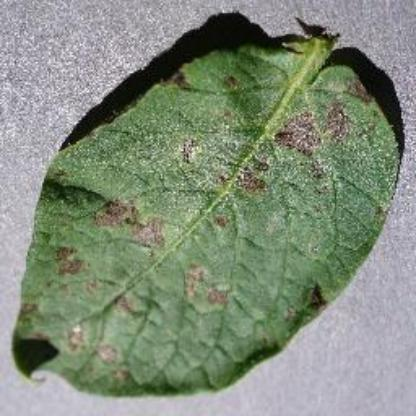Early-Blight: (19, 20, 400, 402)
